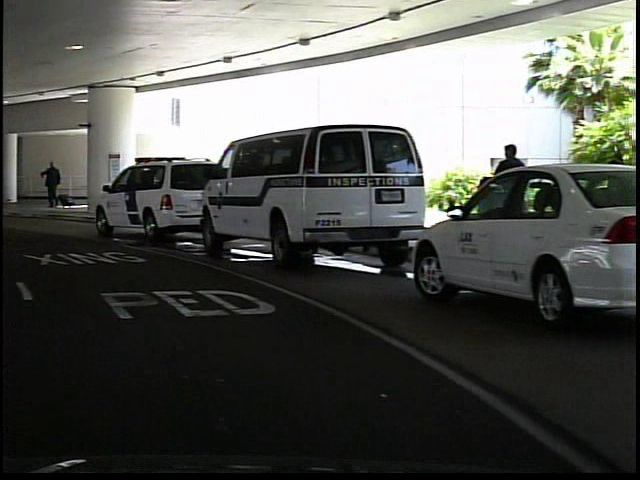person: (485, 138, 527, 258), (37, 156, 64, 216)
